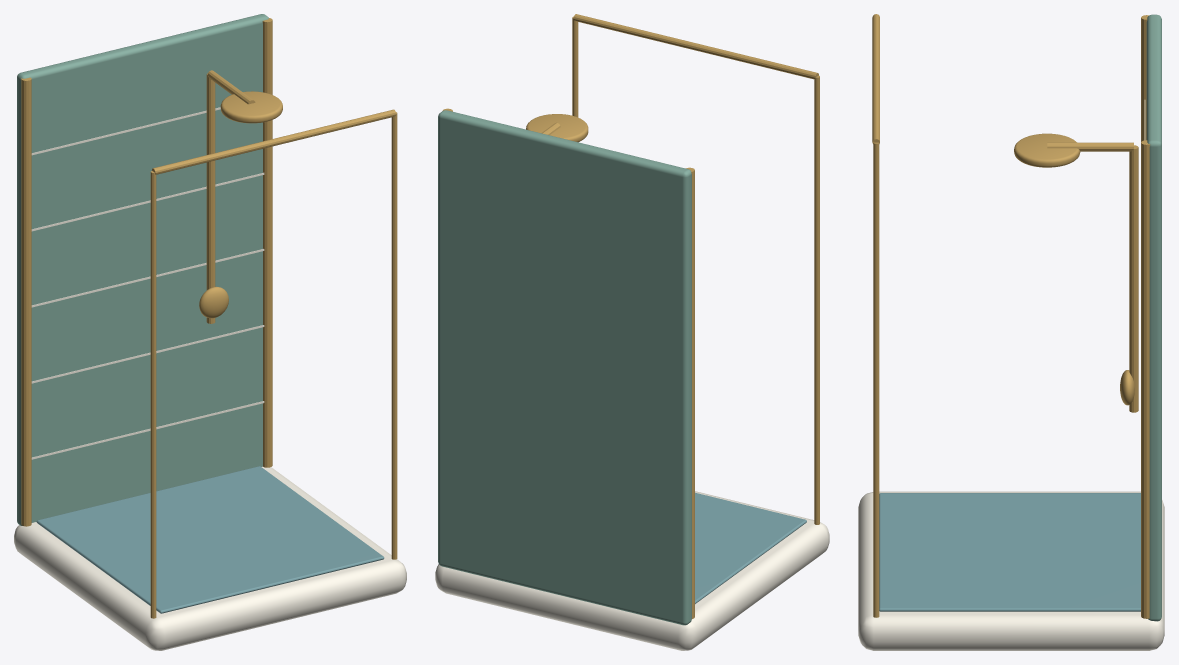
Rendered from shower.glb.
3 renders of one model, left to right at view 1: azimuth 30°, elevation 25°; view 2: azimuth 150°, elevation 25°; view 3: azimuth 270°, elevation 25°, orthographic. The views are drawn at different scales.
Parts seen in each view (by area): view 1: Tile back, Shower floor, Shower tray, Brass frame, Brass frame.001, Open stall trim, Open stall trim.001, Rain shower riser, Top rail, Rain shower head, Control, Tile joint (+3 smaller); view 2: Tile back, Shower tray, Shower floor, Open stall trim, Top rail, Brass frame, Rain shower head, Open stall trim.001; view 3: Shower floor, Shower tray, Tile back, Brass frame.001, Open stall trim.001, Rain shower riser, Rain shower head, Top rail, Rain shower arm, Brass frame.
Part boxes in pixels (x1=…): Tile back: x1=17, y1=14, x2=268, y2=525; Shower floor: x1=36, y1=466, x2=384, y2=613; Shower tray: x1=14, y1=466, x2=406, y2=650; Brass frame: x1=21, y1=77, x2=31, y2=526; Brass frame.001: x1=262, y1=18, x2=272, y2=467; Open stall trim: x1=150, y1=171, x2=156, y2=618; Open stall trim.001: x1=391, y1=112, x2=397, y2=559; Rain shower riser: x1=206, y1=73, x2=215, y2=323; Top rail: x1=152, y1=109, x2=396, y2=174; Rain shower head: x1=220, y1=91, x2=282, y2=123; Control: x1=199, y1=286, x2=228, y2=318; Tile joint: x1=31, y1=401, x2=264, y2=459; Tile back: x1=438, y1=110, x2=691, y2=625; Shower tray: x1=435, y1=491, x2=829, y2=650; Shower floor: x1=695, y1=492, x2=806, y2=603; Open stall trim: x1=814, y1=75, x2=819, y2=524; Top rail: x1=573, y1=14, x2=818, y2=79; Brass frame: x1=686, y1=167, x2=694, y2=618; Rain shower head: x1=526, y1=114, x2=588, y2=142; Open stall trim.001: x1=572, y1=16, x2=578, y2=117; Shower floor: x1=879, y1=493, x2=1140, y2=611; Shower tray: x1=858, y1=491, x2=1164, y2=650; Tile back: x1=1146, y1=14, x2=1161, y2=621; Brass frame.001: x1=1141, y1=140, x2=1150, y2=618; Open stall trim.001: x1=873, y1=142, x2=879, y2=617; Rain shower riser: x1=1129, y1=145, x2=1138, y2=412; Rain shower head: x1=1014, y1=133, x2=1080, y2=167; Top rail: x1=872, y1=14, x2=879, y2=143; Rain shower arm: x1=1047, y1=142, x2=1133, y2=151; Brass frame: x1=1141, y1=15, x2=1148, y2=141.
Bounding box in the file's own units: 1.25 × 2.22 × 1.2.
